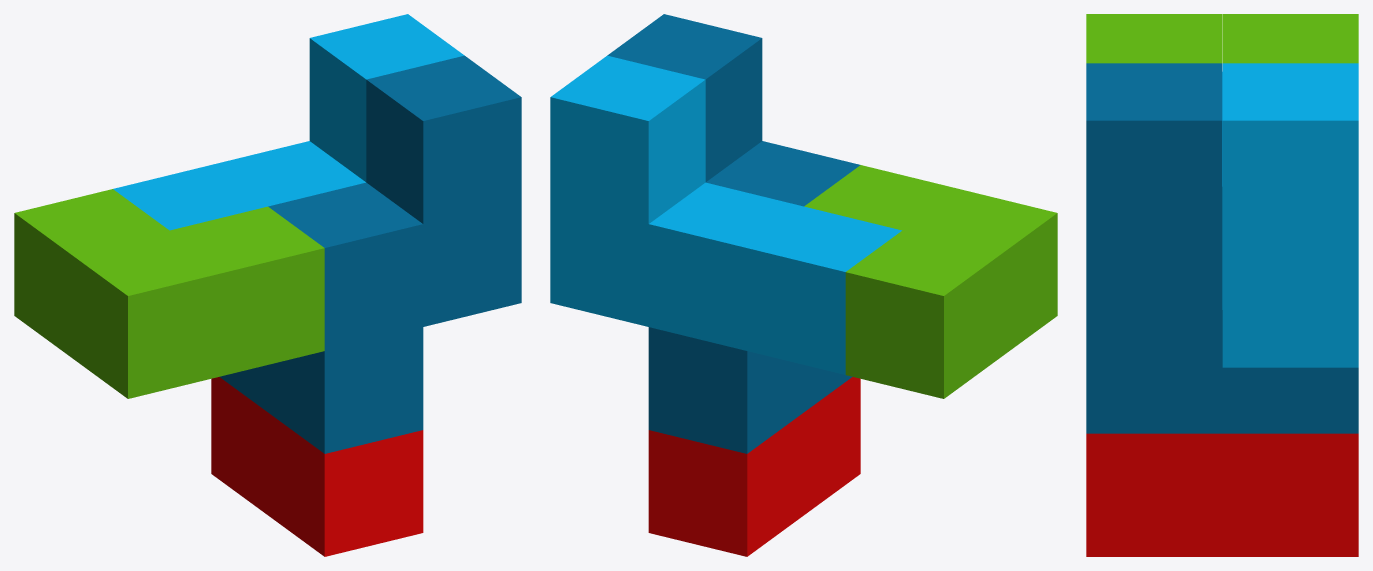
3 renders of one model, left to right at view 1: azimuth 30°, elevation 25°; view 2: azimuth 150°, elevation 25°; view 3: azimuth 270°, elevation 25°, orthographic. The views are drawn at different scales.
Visible parts, largest first — view 1: mergedBlocks(Clone); view 2: mergedBlocks(Clone); view 3: mergedBlocks(Clone).
Part boxes in pixels (x1,y1,x2,y2): mergedBlocks(Clone): (14,14,521,556); mergedBlocks(Clone): (550,14,1057,556); mergedBlocks(Clone): (1086,14,1358,556).
Bounding box in the file's own units: 4 × 4 × 2.
Materials: 4 (4 with a texture image).
